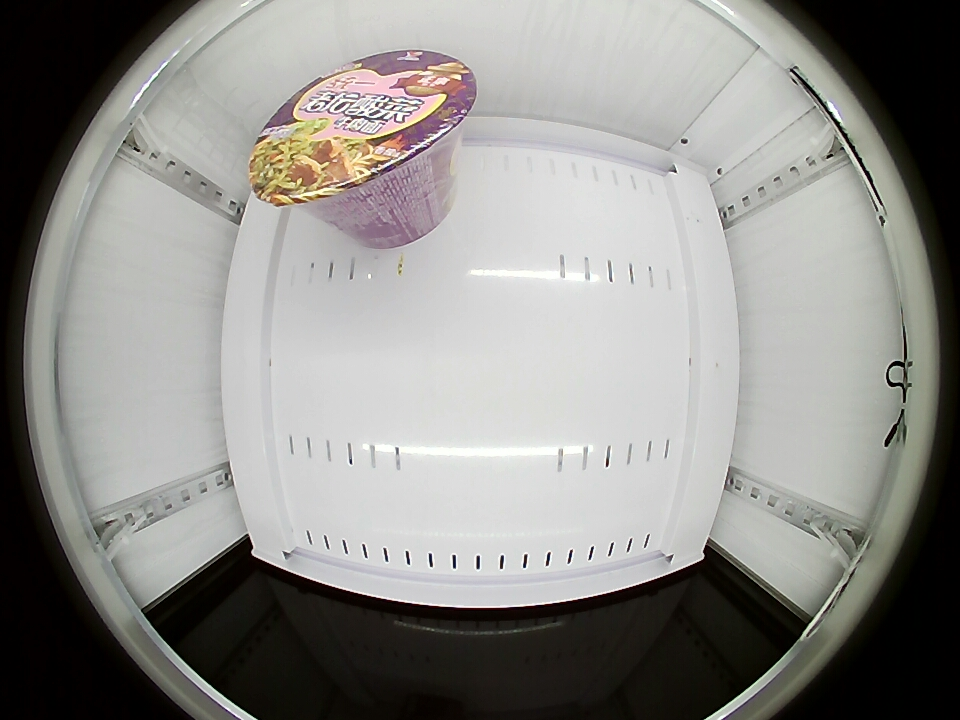laotansuancai: (248, 48, 477, 210)
